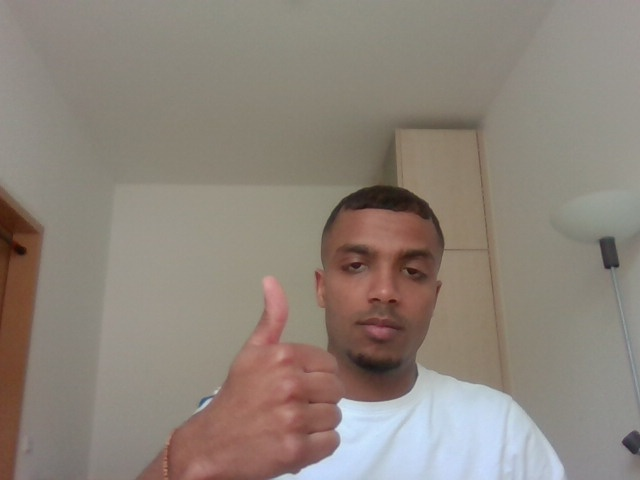yes: (177, 262, 353, 480)
